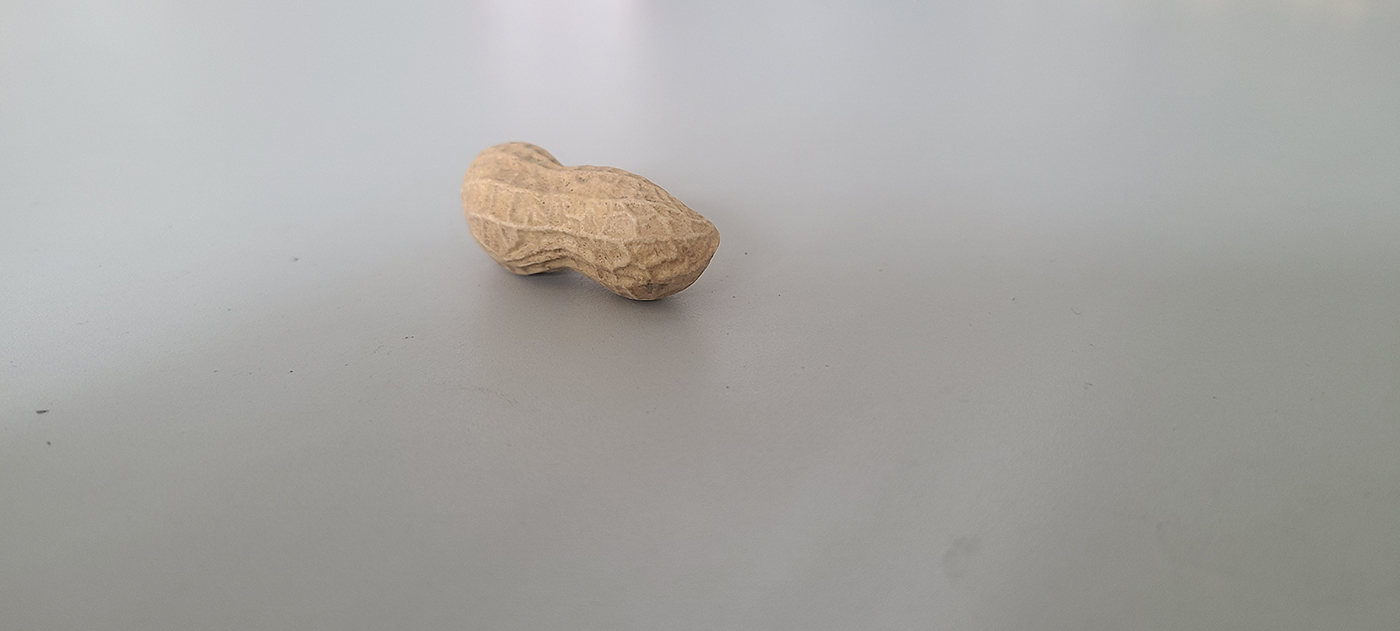h: (459, 138, 723, 302)
